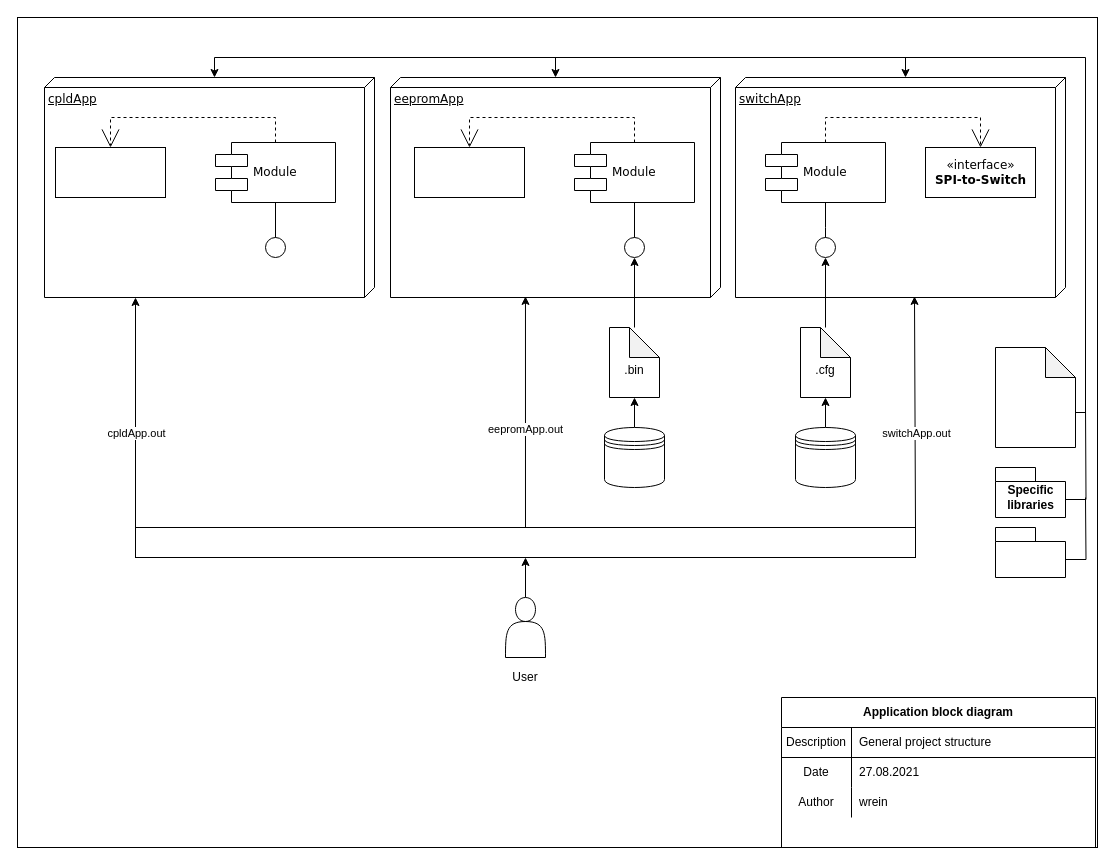
The diagram is 1115 pixels wide and 865 high, and some of its shapes have lost their labels. The shapes that lost their labels are listed below. From the top down, each one's centre as x and y in pixels, then its label:
At pixel 110 172: "«interface» SPI-to-CPLD".
At pixel 469 172: "«interface» CPLD-to- EEPROM".
At pixel 1035 397: "globals.h #includes".
At pixel 525 542: "Command line (-h for help)".
At pixel 1030 552: "Standard libraries".
